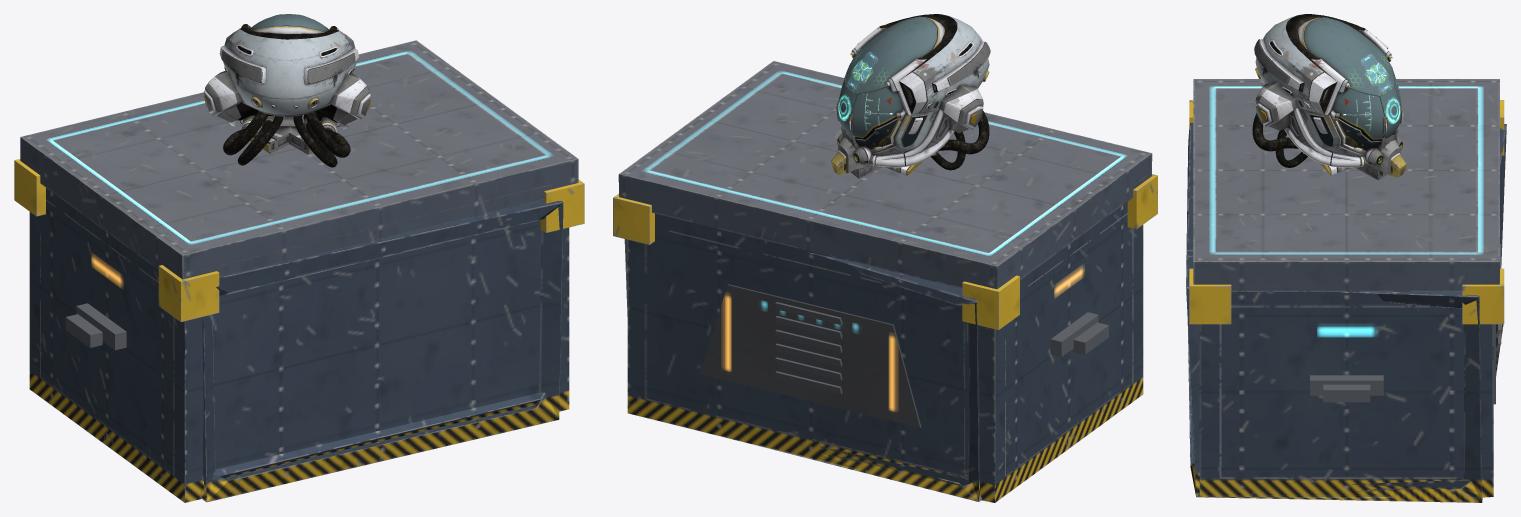
The model's file is P10_YOLO_Scene.glb.
The picture shows the model from 3 angles, left to right: view 1: azimuth 30°, elevation 25°; view 2: azimuth 150°, elevation 25°; view 3: azimuth 270°, elevation 25°; orthographic projection. The views are drawn at different scales.
Visible parts, largest first — view 1: SciFi_Crate, node_damagedHelmet_-6514; view 2: SciFi_Crate, node_damagedHelmet_-6514; view 3: SciFi_Crate, node_damagedHelmet_-6514.
Part boxes in pixels (<box>): SciFi_Crate: <box>14,40,584,502</box>; node_damagedHelmet_-6514: <box>203,14,370,167</box>; SciFi_Crate: <box>613,61,1157,502</box>; node_damagedHelmet_-6514: <box>831,14,990,178</box>; SciFi_Crate: <box>1186,79,1506,502</box>; node_damagedHelmet_-6514: <box>1252,14,1406,180</box>.
Size of what is drawn, in the model's own units: 2.3 by 2 by 1.53.
3 materials, 2 textured.
